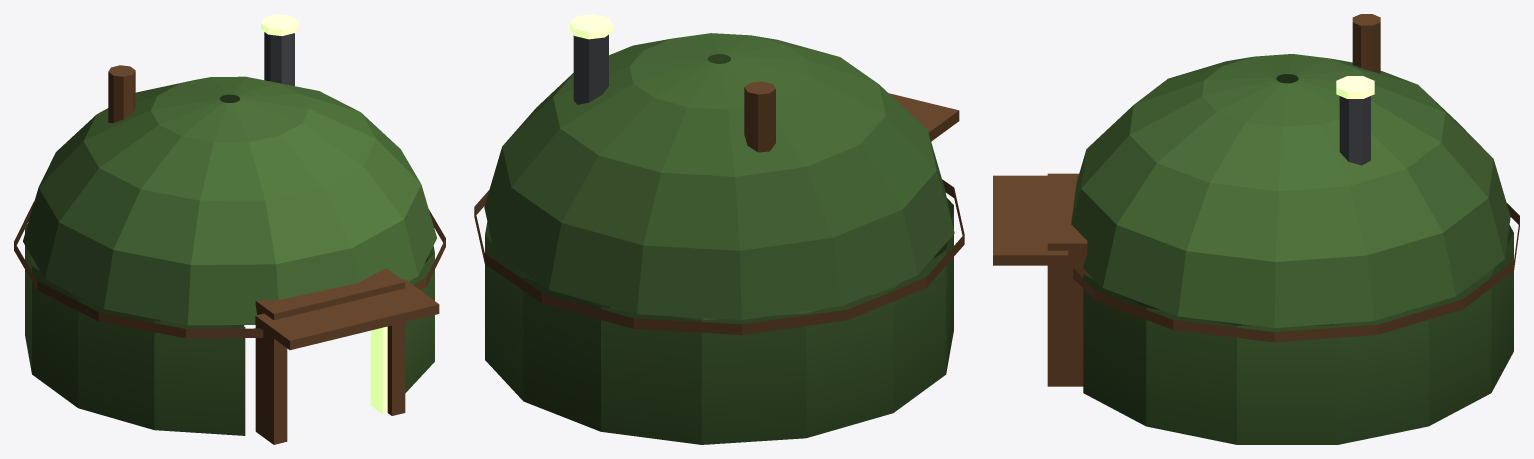
Rendered from shaddai_dist_meadow_home_b_v01.glb.
3 renders of one model, left to right at view 1: azimuth 30°, elevation 25°; view 2: azimuth 150°, elevation 25°; view 3: azimuth 270°, elevation 25°, orthographic. The views are drawn at different scales.
Visible parts, largest first — view 1: shaddai_dist_meadow_home_b; view 2: shaddai_dist_meadow_home_b; view 3: shaddai_dist_meadow_home_b.
Boxes of the visible parts, x1,y1,x2,y2 form: shaddai_dist_meadow_home_b: (14,14,445,444); shaddai_dist_meadow_home_b: (474,14,964,444); shaddai_dist_meadow_home_b: (993,14,1519,444).
Size of the model in its own units: 12.48 by 9.08 by 13.96.
